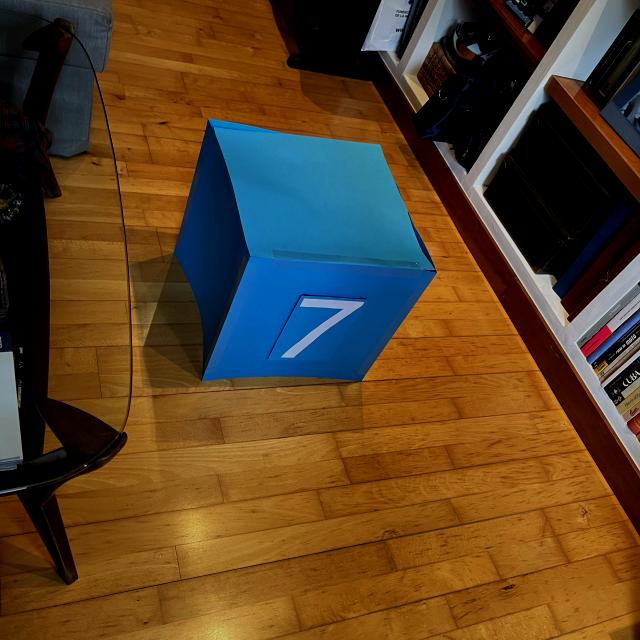box: (170, 114, 439, 386)
